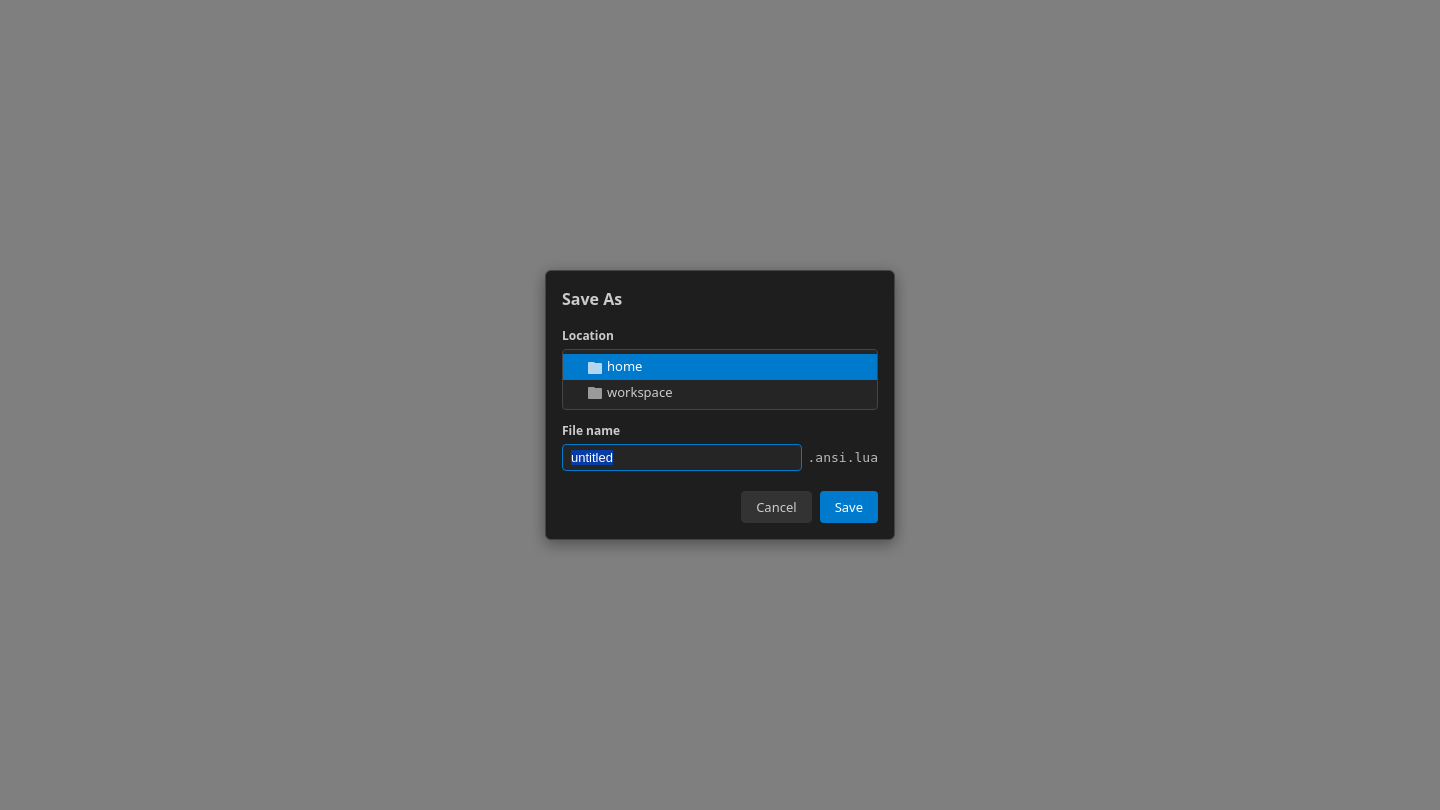
Test case: SaveAsDialog › should show error when filename is only the extension: .ansi.lua
Replace the text in the field with test id "save-as-filename" with ".ansi.lua": (682, 458) 562,444 -> 802,471
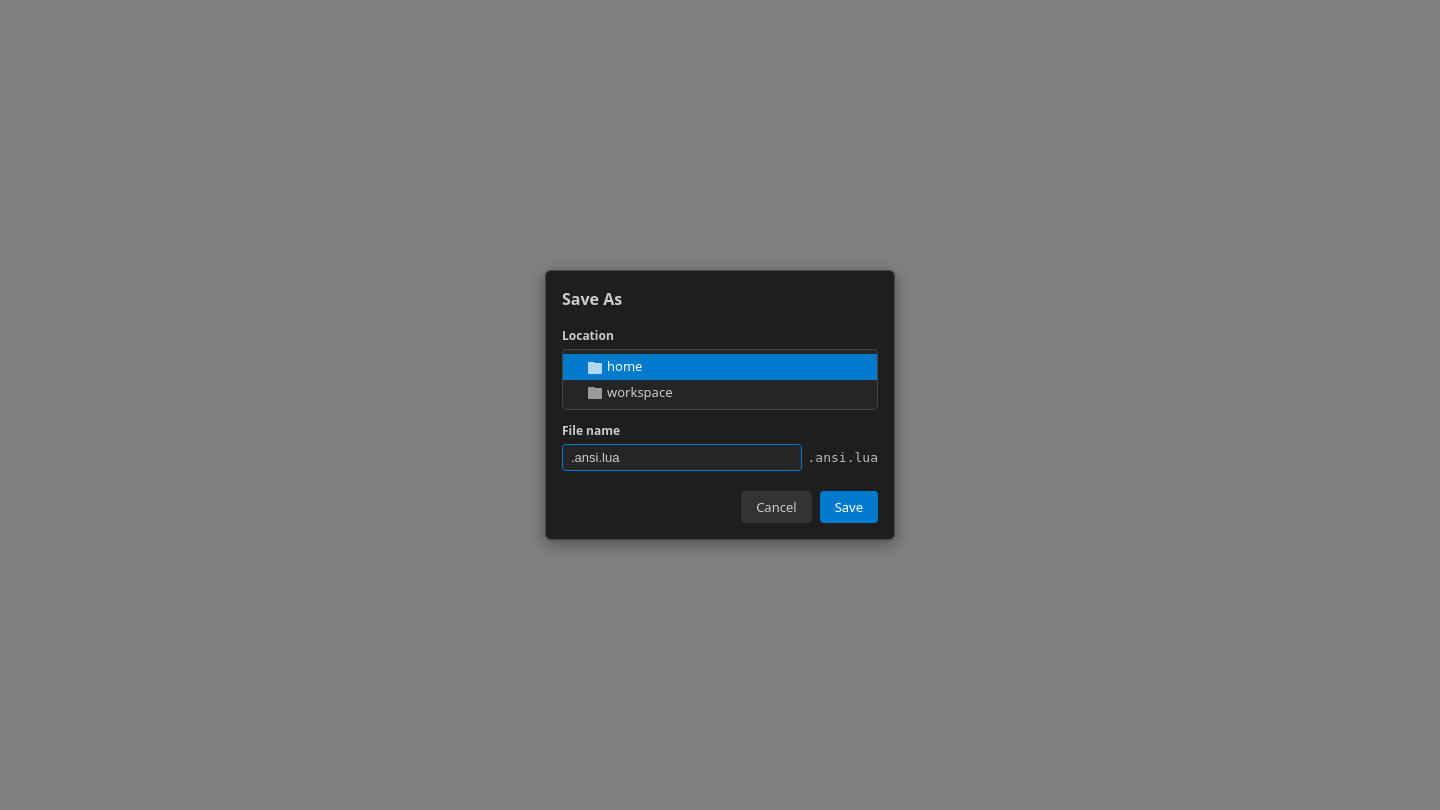
Click the button with test id "save-as-save": (849, 507) 820,491 -> 878,523
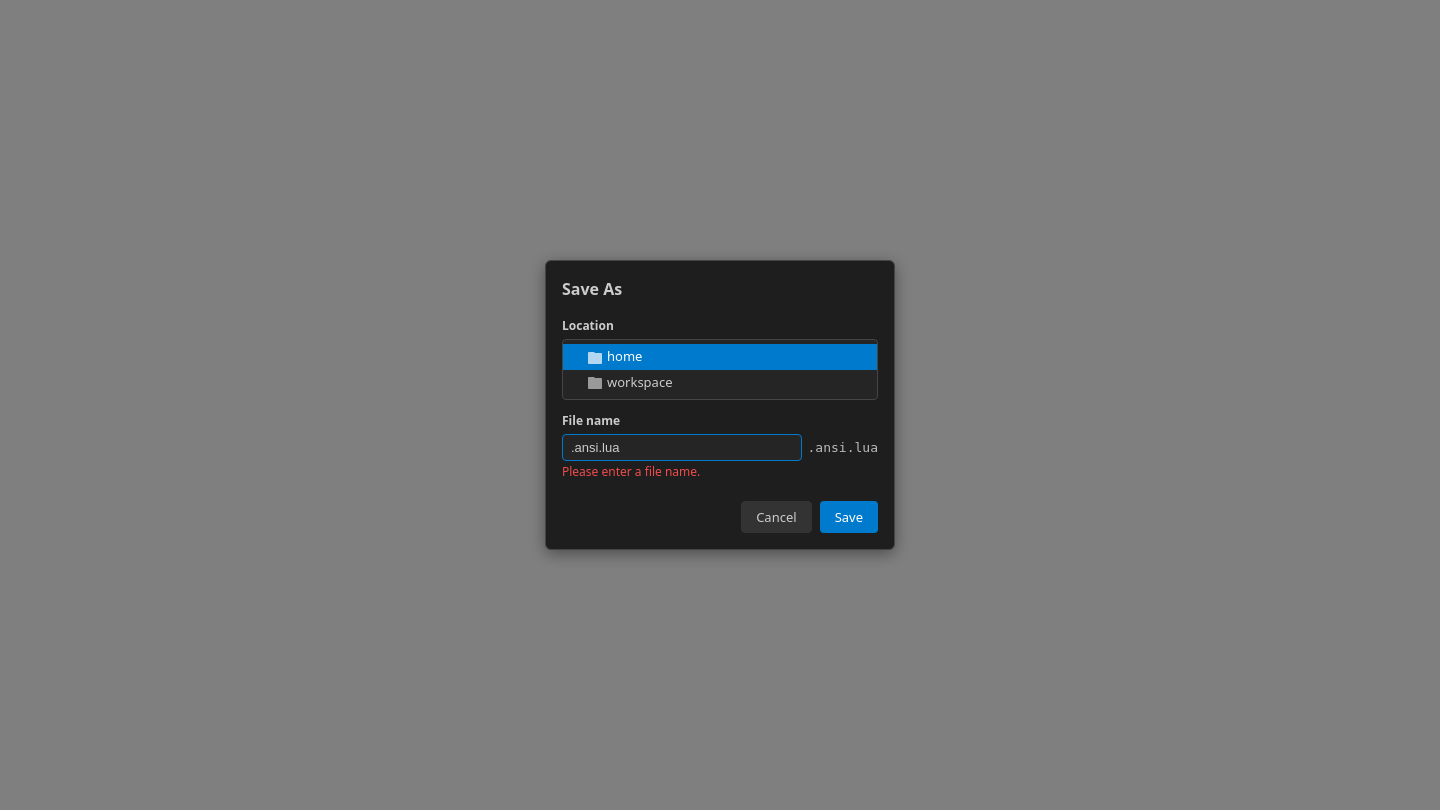
Result: the text "Please enter a file name." is shown at 562,463 -> 700,480
